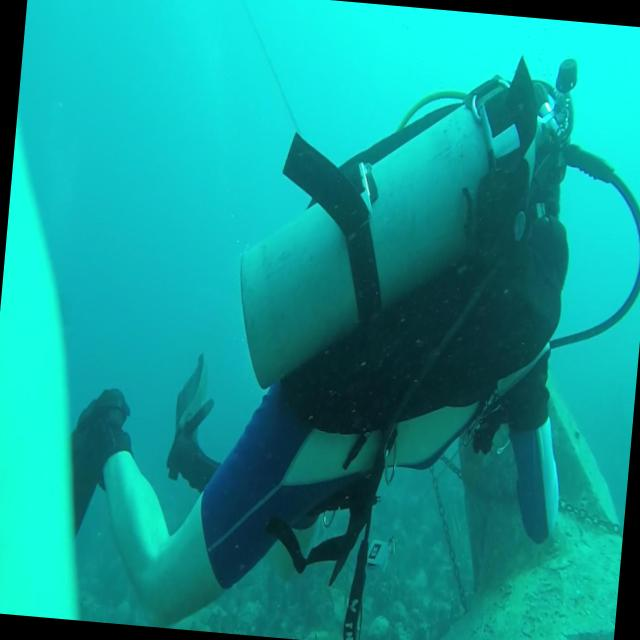human: (54, 15, 640, 640)
